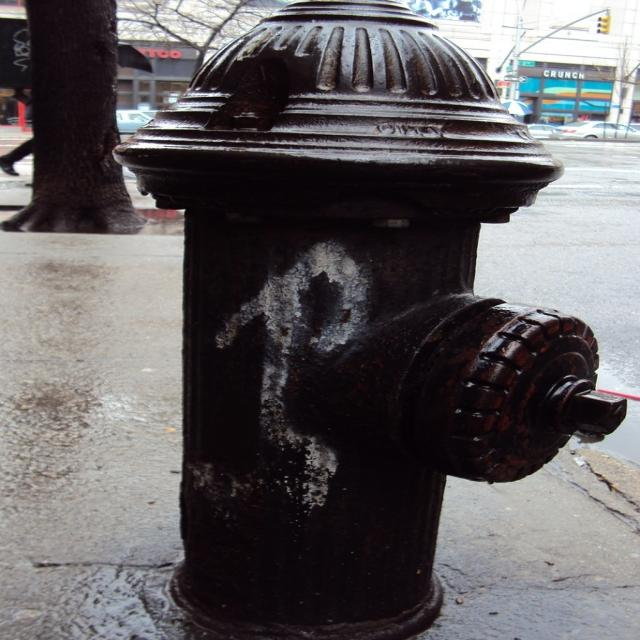fire_hydrant: (33, 28, 628, 640)
